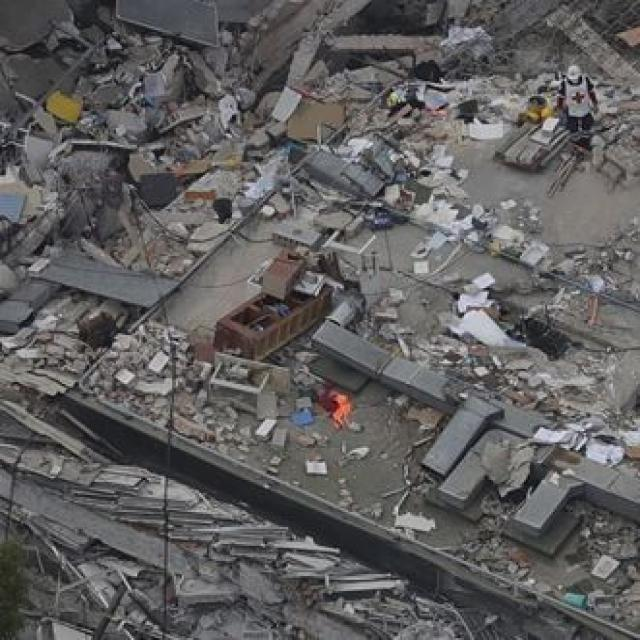collapsed_building: (75, 0, 638, 580)
